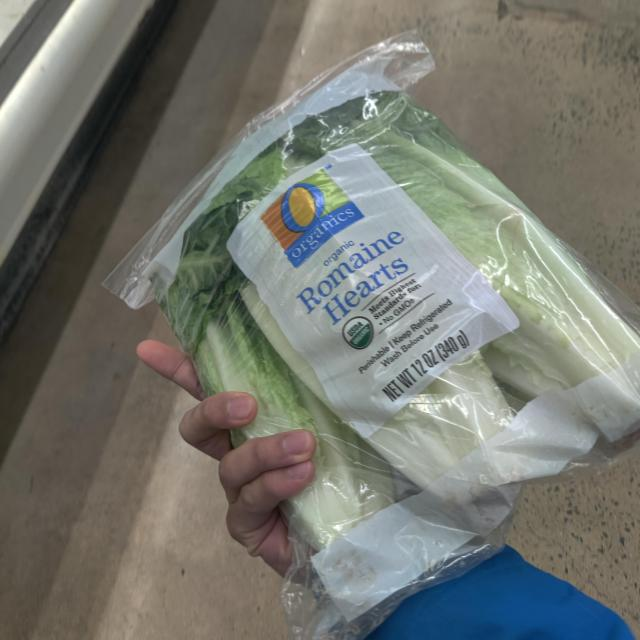Lettuce: (137, 66, 640, 638)
